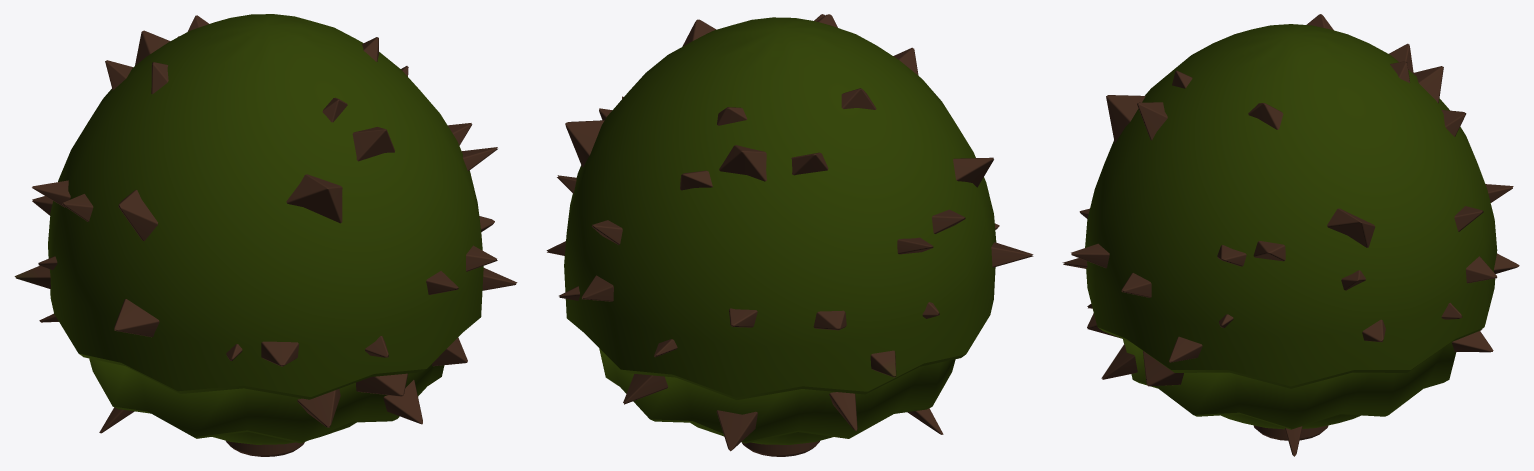
File: Hazard.fbx
The picture shows the model from 3 angles, left to right: view 1: azimuth 30°, elevation 25°; view 2: azimuth 150°, elevation 25°; view 3: azimuth 270°, elevation 25°; orthographic projection. The views are drawn at different scales.
Visible parts, largest first — view 1: Hazard1; view 2: Hazard1; view 3: Hazard1.
Part boxes in pixels (x1,y1,x2,y2): Hazard1: (14, 14, 517, 456); Hazard1: (546, 14, 1033, 456); Hazard1: (1062, 14, 1519, 456).
Size of the model in its own units: 242 by 241 by 255.
1 material, 1 textured.
